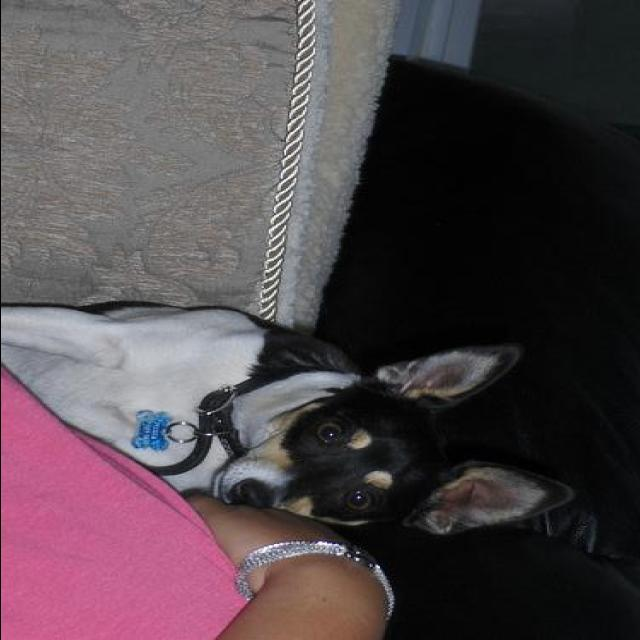toy_terrier: (2, 298, 577, 532)
